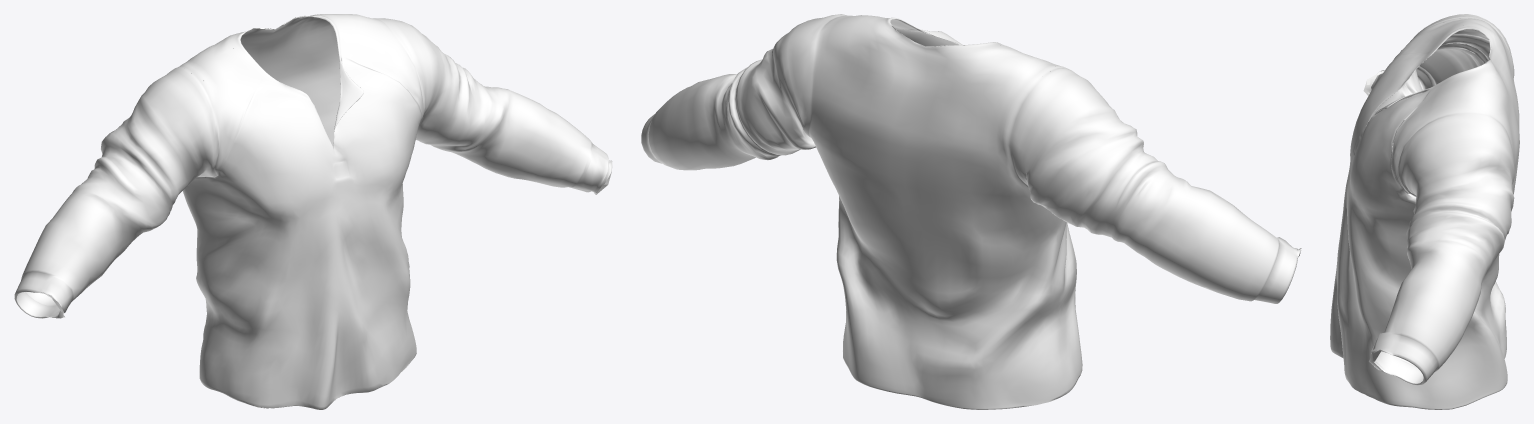
File: LongSleeve.glb
The picture shows the model from 3 angles, left to right: view 1: azimuth 30°, elevation 25°; view 2: azimuth 150°, elevation 25°; view 3: azimuth 270°, elevation 25°; orthographic projection. The views are drawn at different scales.
Parts seen in each view (by area): view 1: Newport_Shirt_10879.001; view 2: Newport_Shirt_10879.001; view 3: Newport_Shirt_10879.001.
Part boxes in pixels (box(x1,y1,x2,y2)): Newport_Shirt_10879.001: box(14, 14, 612, 409); Newport_Shirt_10879.001: box(641, 14, 1301, 409); Newport_Shirt_10879.001: box(1330, 14, 1519, 409).
Size of the model in its own units: 22.29 by 11.75 by 6.34.
Materials: 1 (1 with a texture image).
